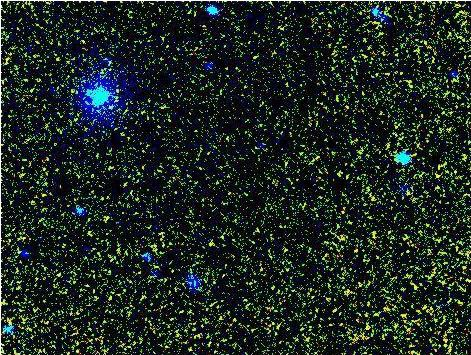star: (61, 75, 91, 105)
